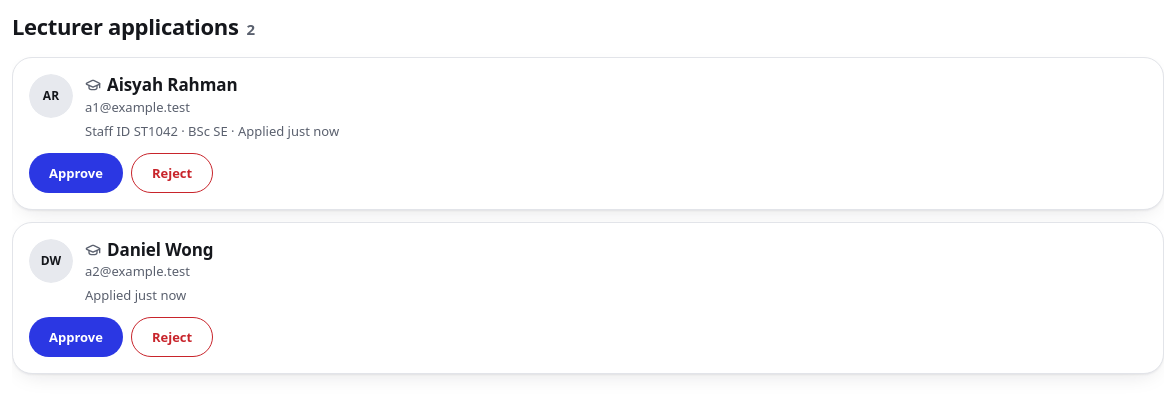
admin lecturer applications › CLI-TC77: approving removes the row, announces it and keeps the other application
Click the button with aria-label "Approve Daniel Wong".
click(76, 337)  # box [29, 317, 123, 357]
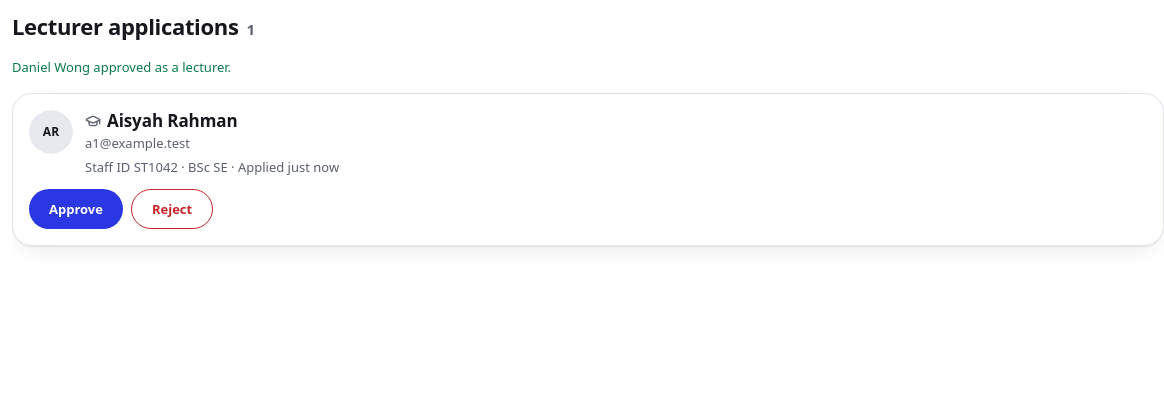
Check: the text "Aisyah Rahman" is shown, box [107, 110, 238, 133]
Check: the message reads "Daniel Wong approved as a lecturer.", box [12, 58, 231, 76]
